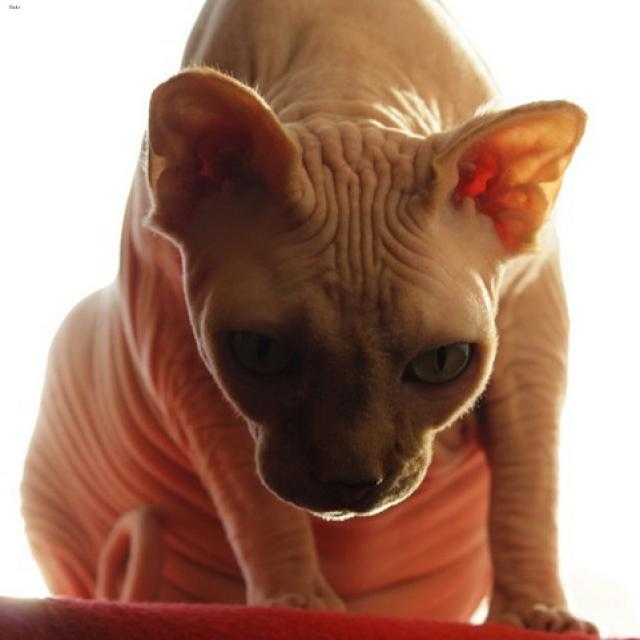Sphynx: (141, 64, 585, 520)
